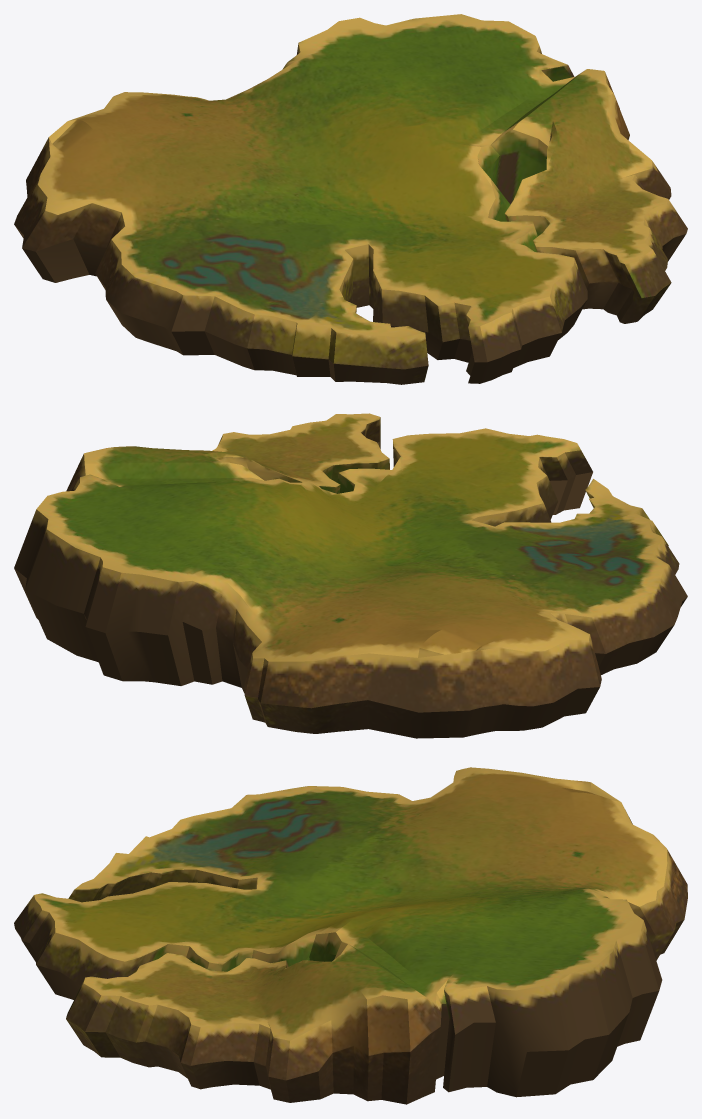
The model's file is minimapa.fbx.
3 renders of one model, top to bottom at view 1: azimuth 30°, elevation 25°; view 2: azimuth 150°, elevation 25°; view 3: azimuth 270°, elevation 25°, orthographic. The views are drawn at different scales.
Visible parts, largest first — view 1: Cube; view 2: Cube; view 3: Cube.
Boxes of the visible parts, bbox=[...] form: Cube: bbox=[14, 14, 687, 384]; Cube: bbox=[14, 413, 687, 738]; Cube: bbox=[14, 767, 687, 1104].
Size of the model in its own units: 5064 by 999 by 5095.
Materials: 1 (1 with a texture image).
